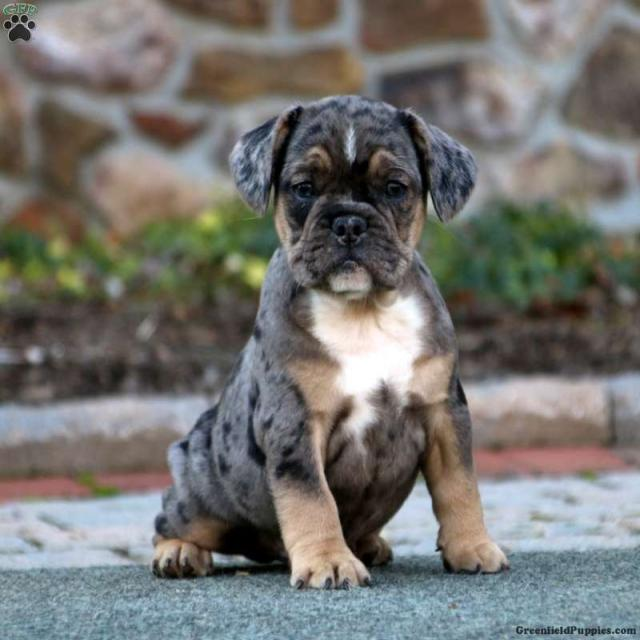dog: (184, 37, 543, 397)
